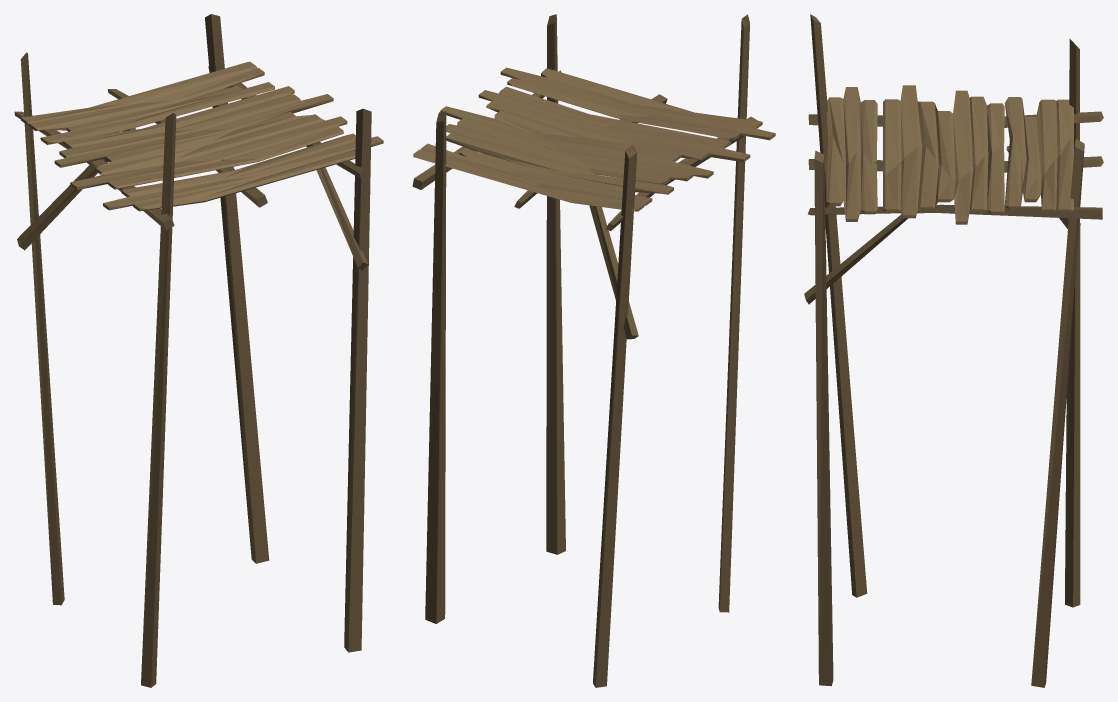
Rendered from SM_Bld_Rickety_Dock_Platform_01.glb.
3 views of the same model, side by side, from view 1: azimuth 30°, elevation 25°; view 2: azimuth 150°, elevation 25°; view 3: azimuth 270°, elevation 25° (orthographic). The views are drawn at different scales.
Visible parts, largest first — view 1: SM_Bld_Rickety_Dock_Platform_01_part00; view 2: SM_Bld_Rickety_Dock_Platform_01_part00; view 3: SM_Bld_Rickety_Dock_Platform_01_part00.
Part boxes in pixels (left/top/right/bottom): SM_Bld_Rickety_Dock_Platform_01_part00: left=14, top=14, right=383, bottom=687; SM_Bld_Rickety_Dock_Platform_01_part00: left=412, top=14, right=775, bottom=687; SM_Bld_Rickety_Dock_Platform_01_part00: left=804, top=14, right=1103, bottom=687.
Size of the model in its own units: 4.34 by 8.66 by 4.04.
1 material, 1 textured.
